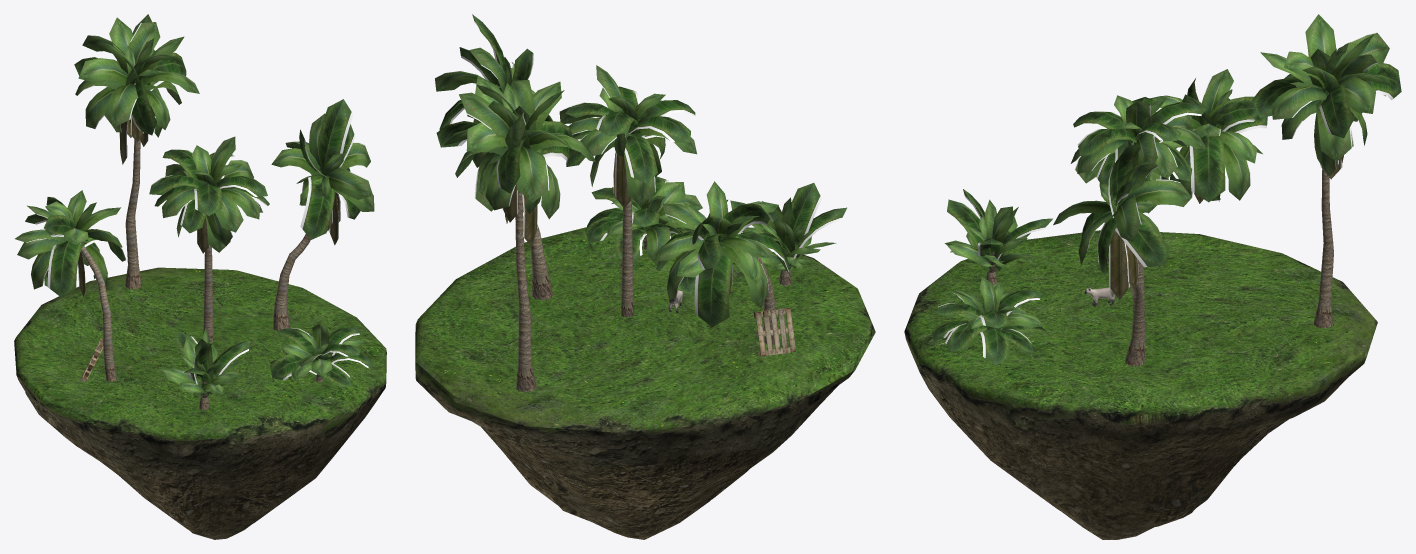
Rendered from cat_island.gltf.
The picture shows the model from 3 angles, left to right: view 1: azimuth 30°, elevation 25°; view 2: azimuth 150°, elevation 25°; view 3: azimuth 270°, elevation 25°; orthographic projection. The views are drawn at different scales.
Parts seen in each view (by area): view 1: island, palms; view 2: island, palms, pallet; view 3: island, palms.
Part boxes in pixels (left/top/right/bottom): island: left=14, top=267, right=386, bottom=539; palms: left=15, top=14, right=374, bottom=409; island: left=415, top=227, right=875, bottom=539; palms: left=435, top=14, right=846, bottom=391; pallet: left=753, top=307, right=795, bottom=356; island: left=904, top=230, right=1377, bottom=539; palms: left=932, top=14, right=1401, bottom=366.
Bounding box in the file's own units: 71.45 × 88.74 × 78.75.
7 materials, 6 textured.
